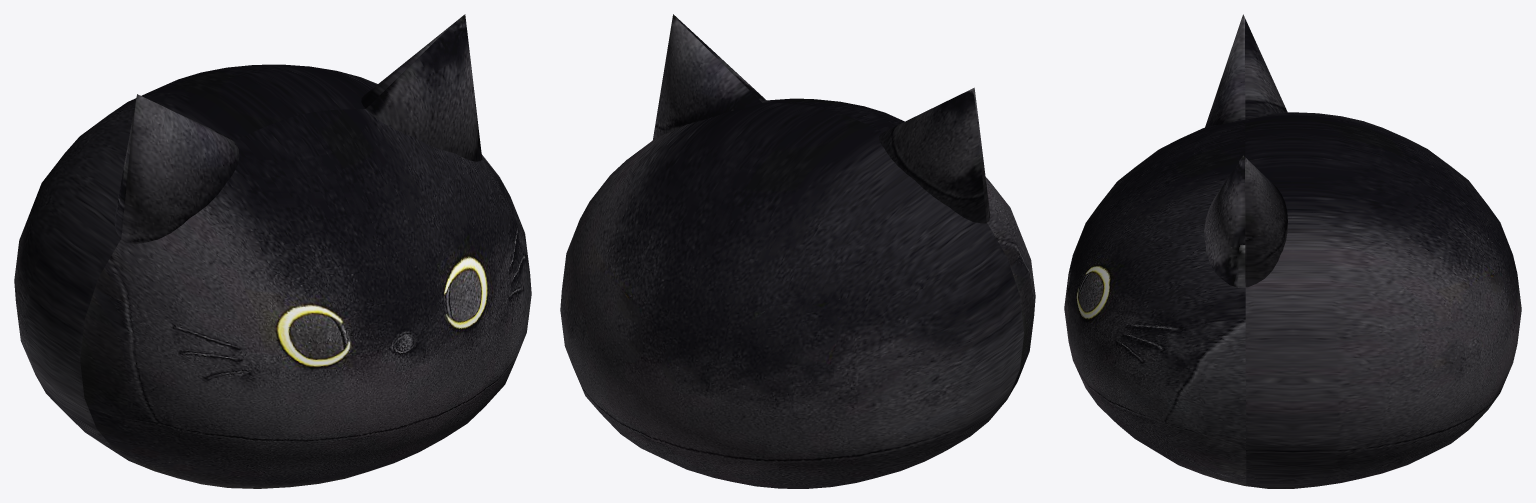
The model's file is black_cat_head_plush.glb.
3 renders of one model, left to right at view 1: azimuth 30°, elevation 25°; view 2: azimuth 150°, elevation 25°; view 3: azimuth 270°, elevation 25°, orthographic. The views are drawn at different scales.
Visible parts, largest first — view 1: Sphere; view 2: Sphere; view 3: Sphere.
Part boxes in pixels (<box>): Sphere: <box>14,14,531,488</box>; Sphere: <box>560,14,1035,488</box>; Sphere: <box>1064,14,1521,488</box>.
Size of the model in its own units: 5.32 by 4.67 by 5.32.
1 material, 1 textured.
